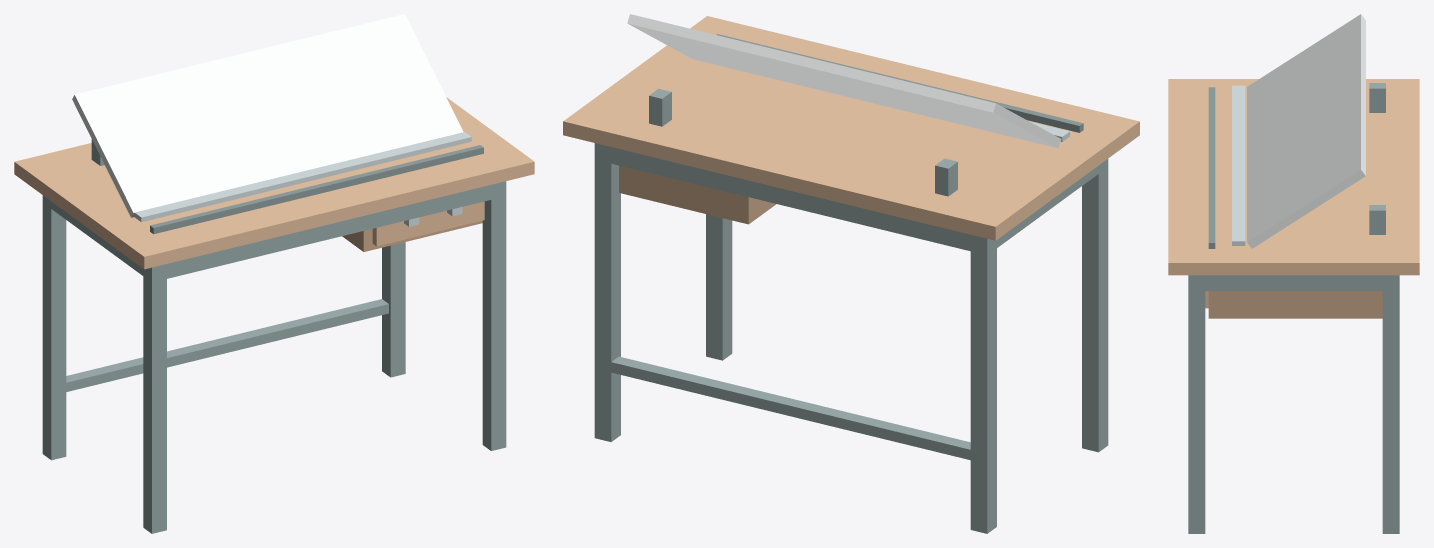
The model's file is deskDrafting.glb.
3 renders of one model, left to right at view 1: azimuth 30°, elevation 25°; view 2: azimuth 150°, elevation 25°; view 3: azimuth 270°, elevation 25°, orthographic. The views are drawn at different scales.
Visible parts, largest first — view 1: deskDrafting; view 2: deskDrafting; view 3: deskDrafting.
Boxes of the visible parts, x1=… form: deskDrafting: x1=14, y1=14, x2=534, y2=533; deskDrafting: x1=563, y1=14, x2=1139, y2=533; deskDrafting: x1=1168, y1=14, x2=1419, y2=533.
Size of the model in its own units: 0.65 by 0.5905 by 0.375.
